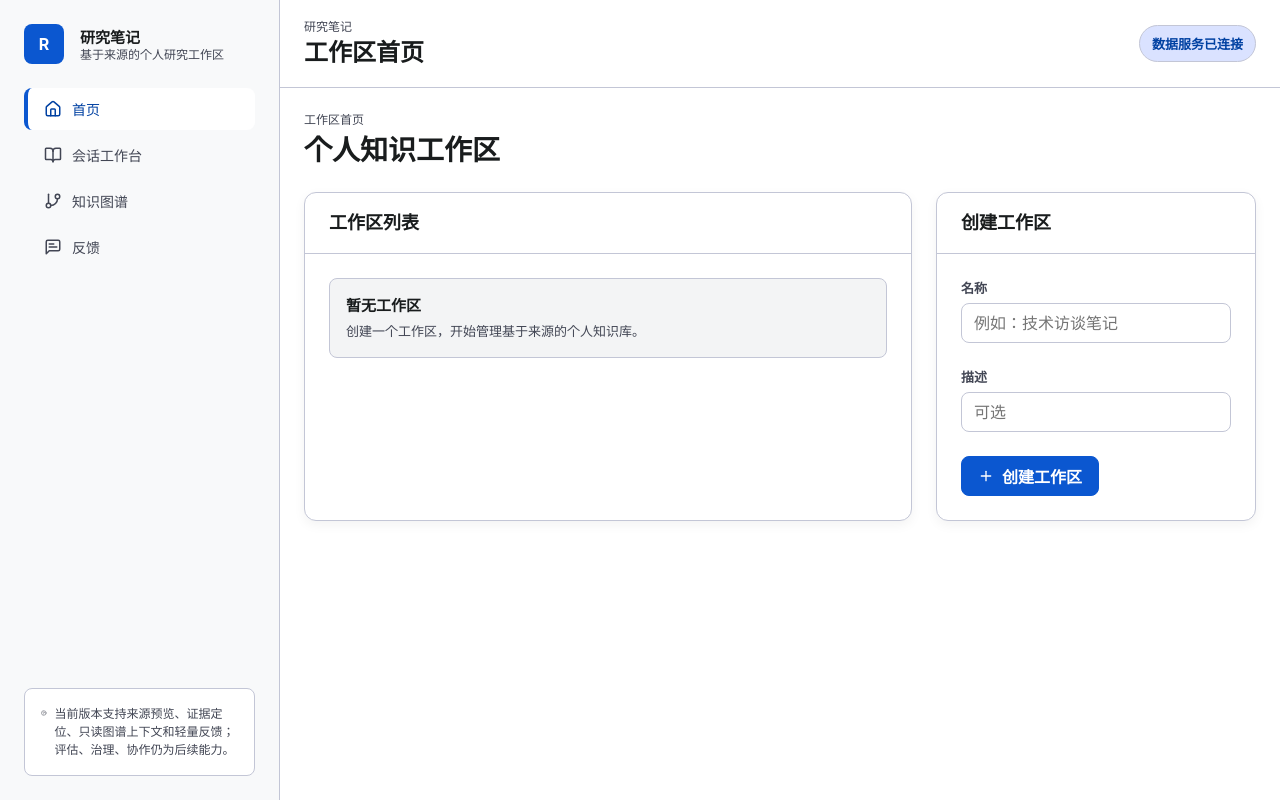
it: Workspace Home smoke › renders create workspace failure state
Check: the heading "暂无工作区" is shown, box [346, 296, 421, 315]
Type "Duplicate" into the field with placeholder "例如：技术访谈笔记" at coordinates (1096, 323), box [961, 303, 1231, 343]
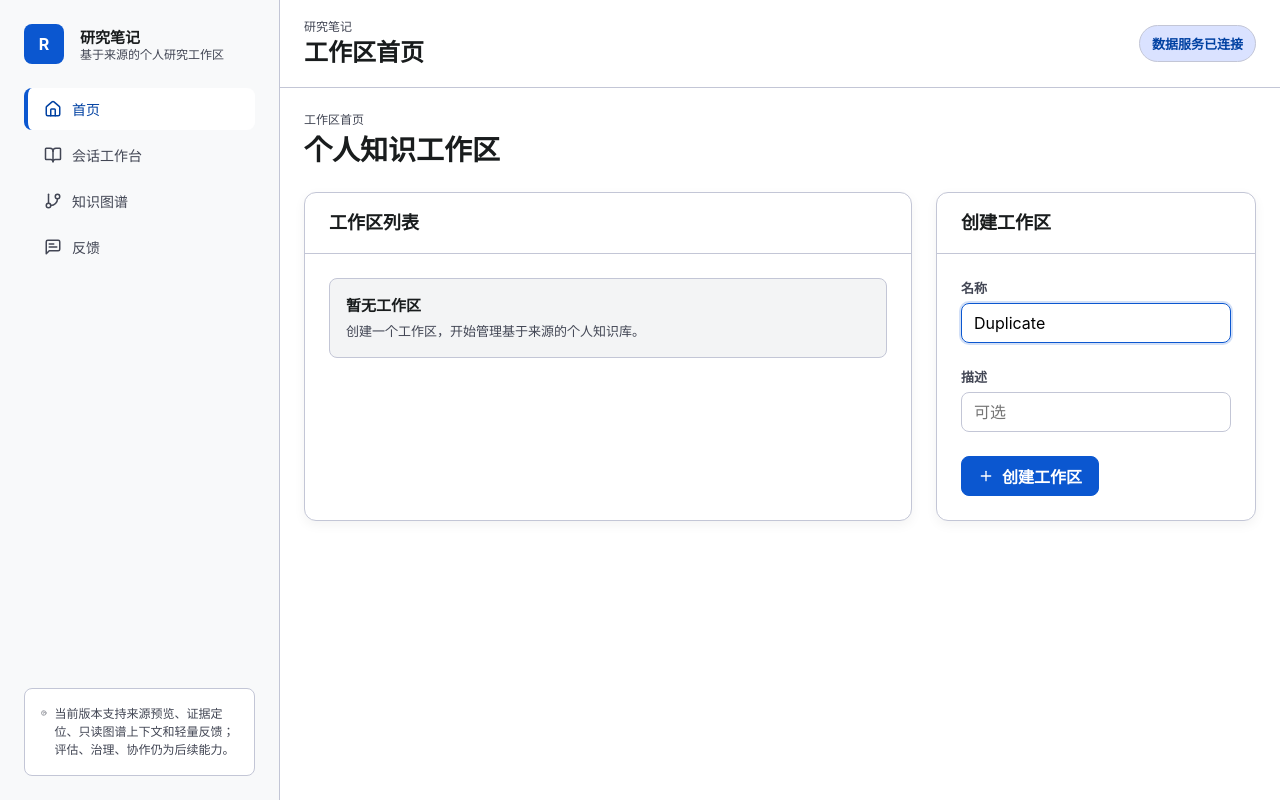
Click the button "创建工作区" at coordinates (1030, 476), box [961, 456, 1099, 496]
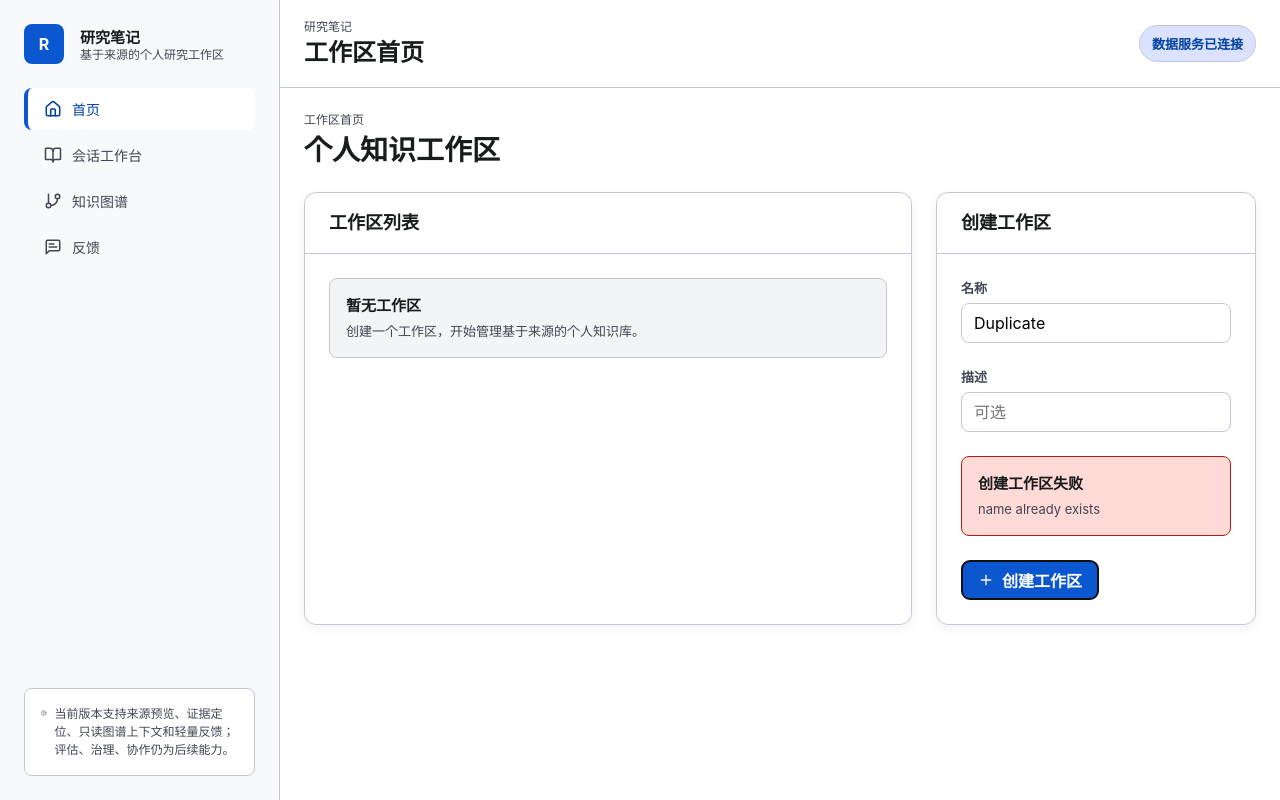
Check: the heading "创建工作区失败" is shown, box [978, 473, 1100, 495]
Check: the text "name already exists" is shown, box [978, 499, 1100, 519]
